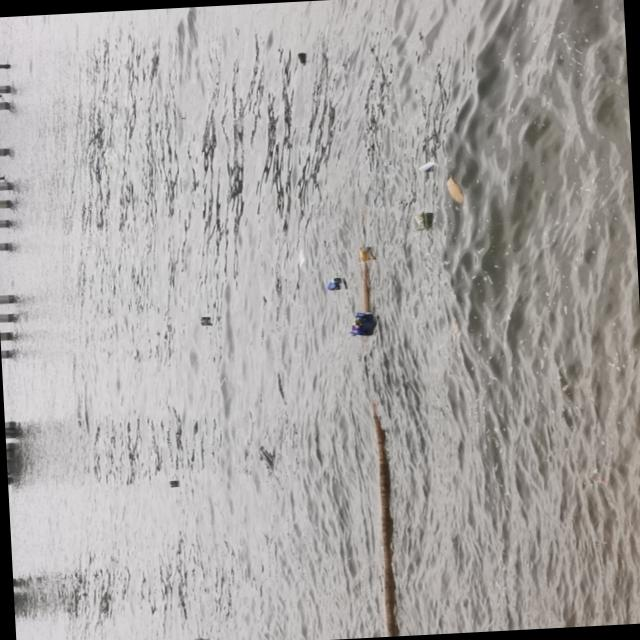can: (420, 160, 436, 173), (329, 278, 341, 291), (169, 482, 175, 488)
foam: (190, 638, 203, 640)
